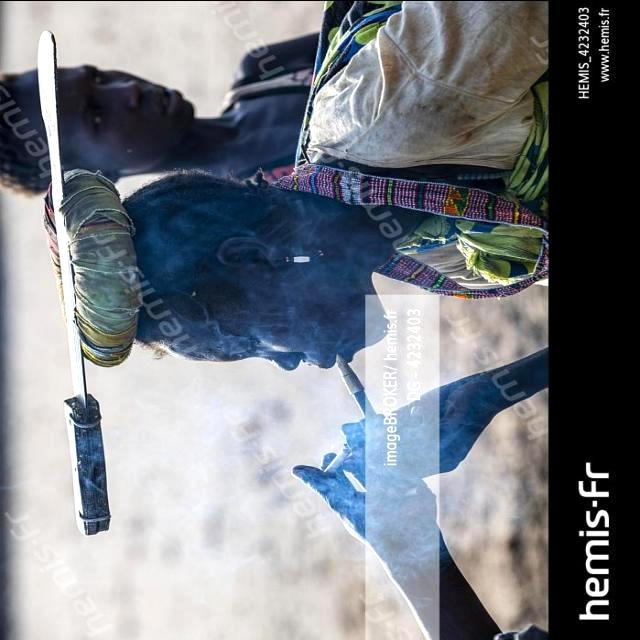long knife: (30, 32, 130, 554)
